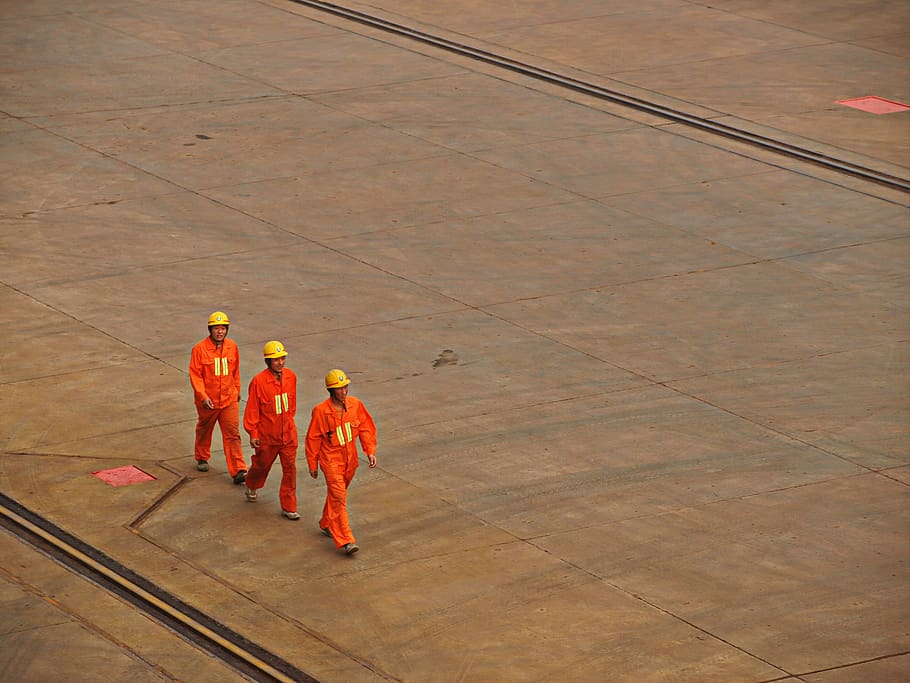Hard Hat: (325, 372, 351, 404), (264, 342, 289, 373), (210, 312, 230, 343)
Person: (308, 371, 379, 558), (246, 341, 303, 520), (189, 310, 248, 478)
